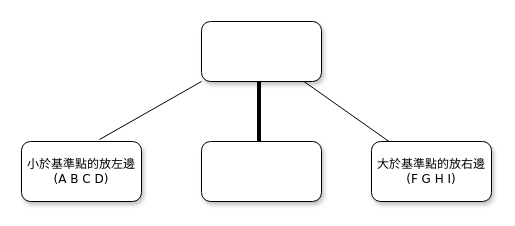
This 515x226 diagram has some shape labels left out. Here are the shapes that lost their labels. From the top down, the centre of each, then its label:
At [262,52]: "A B C D E F G H I".
At [262,172]: "以中間點當基準點(E)".
